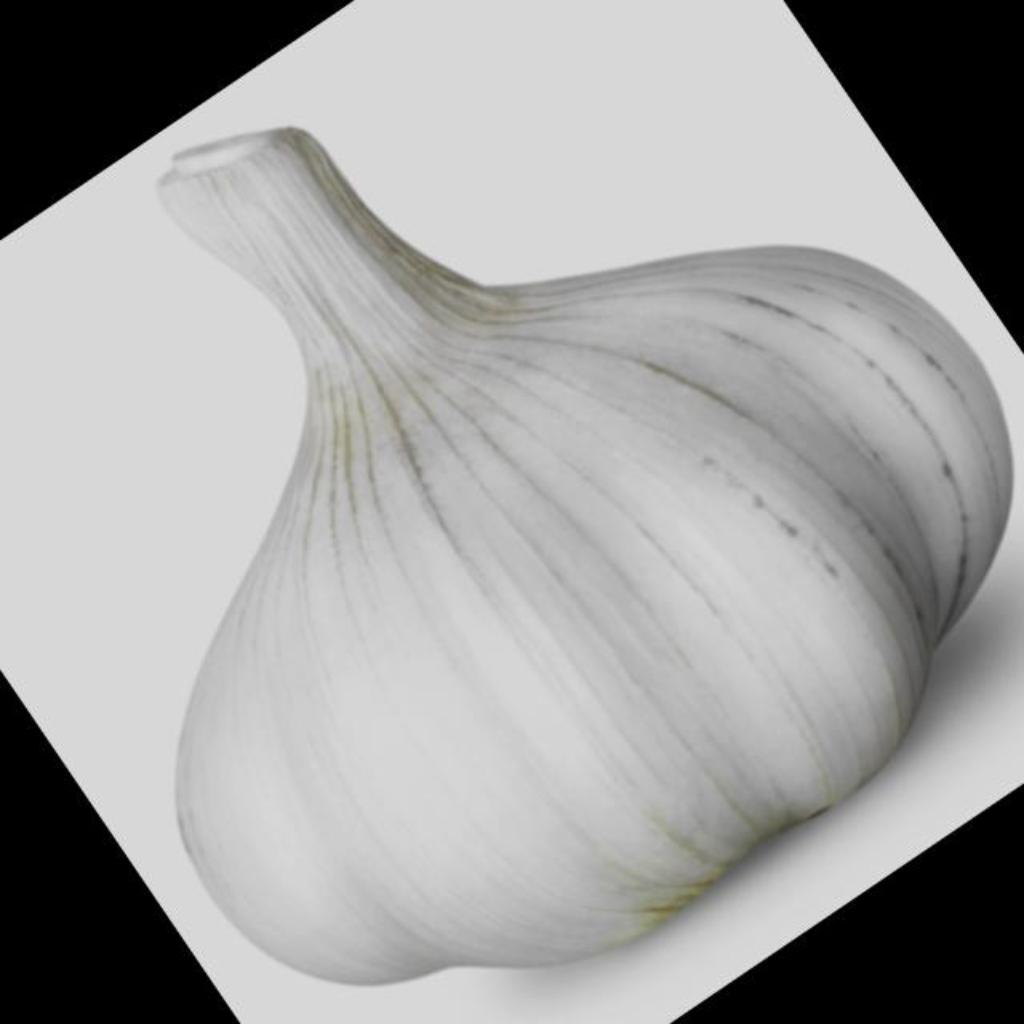garlic: (160, 130, 1012, 983)
